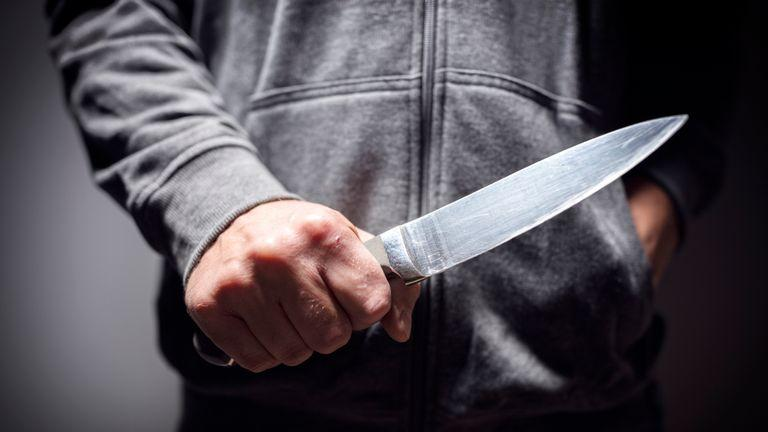Knife: (43, 0, 729, 432), (367, 113, 690, 281), (183, 201, 415, 373)
